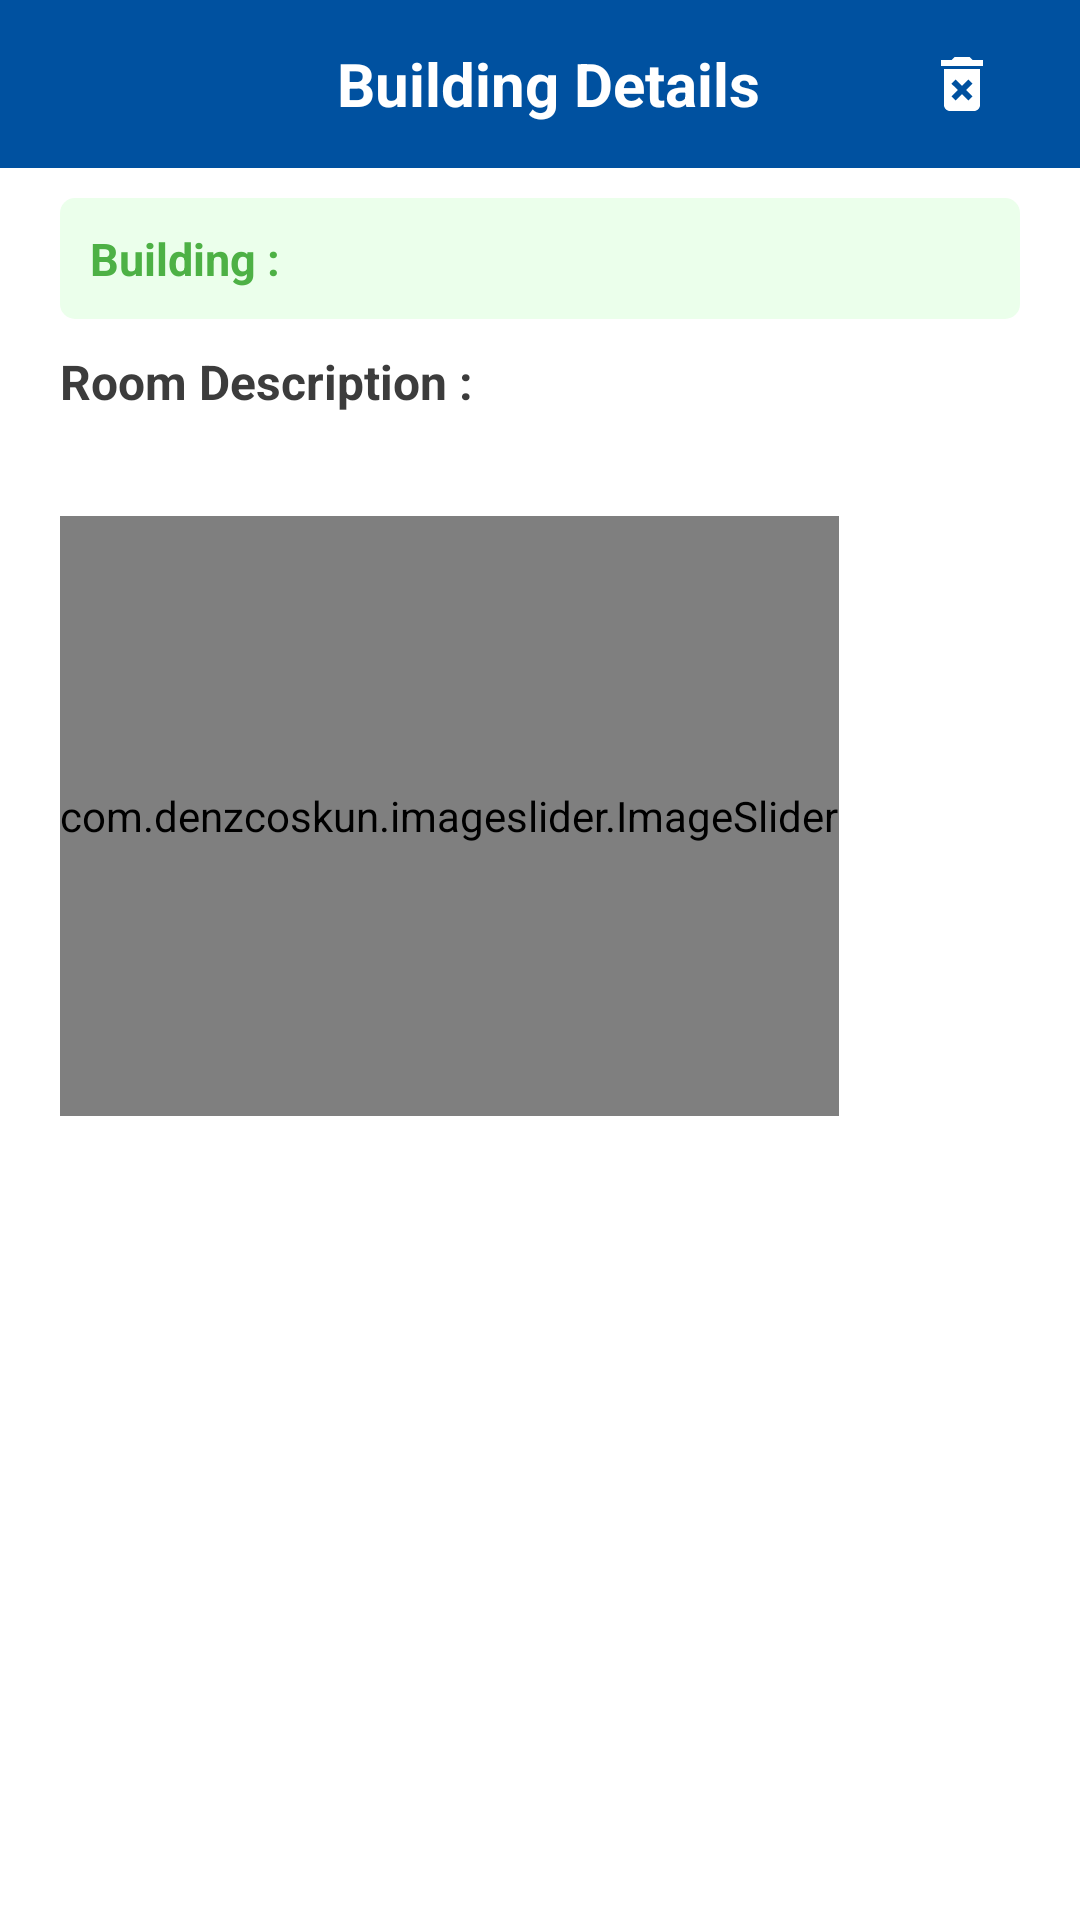

Icon bounding boxes for this 1080 × 1920 phone screenshot, format (x1, y1, x2, y2):
delete forever: (941, 57, 983, 111)
